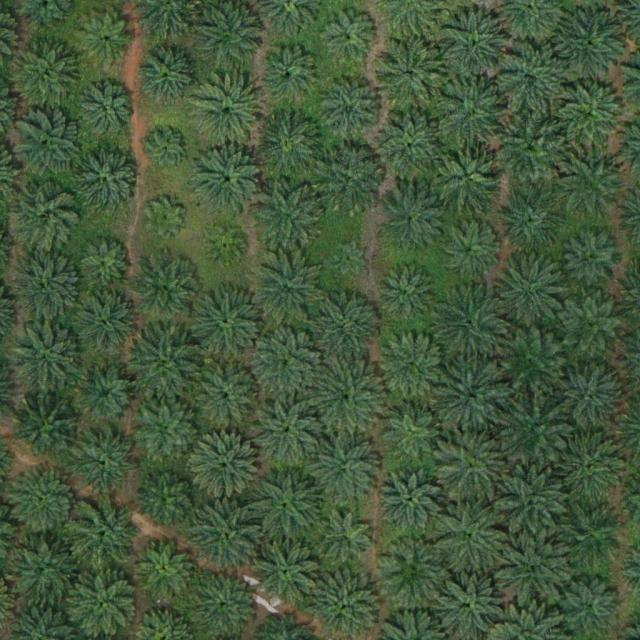Healthy: (555, 6, 626, 77), (436, 285, 507, 356), (436, 361, 507, 432), (377, 188, 448, 259), (250, 251, 321, 322), (12, 324, 83, 395), (14, 393, 85, 464), (9, 466, 80, 537), (70, 500, 141, 571), (499, 394, 570, 465), (11, 39, 81, 110), (135, 39, 205, 110), (192, 78, 263, 148), (256, 41, 326, 112), (441, 10, 511, 81), (558, 151, 628, 222), (554, 363, 624, 434), (495, 325, 565, 396), (439, 81, 509, 152), (376, 113, 447, 183), (315, 147, 385, 218), (313, 362, 383, 433), (254, 111, 324, 182), (194, 147, 264, 218), (131, 331, 201, 402), (71, 291, 141, 362), (9, 182, 80, 252), (12, 252, 82, 323), (69, 569, 139, 640), (192, 432, 262, 503), (252, 469, 322, 540), (252, 535, 323, 605), (309, 436, 379, 507), (496, 469, 567, 539), (497, 535, 568, 605), (559, 431, 629, 502), (557, 502, 627, 573), (373, 39, 443, 109), (496, 45, 566, 115), (557, 82, 627, 152), (497, 114, 567, 184), (495, 184, 565, 254), (496, 254, 566, 324), (433, 143, 503, 213), (378, 333, 448, 403), (312, 292, 382, 362), (256, 182, 326, 252), (253, 328, 323, 398), (192, 289, 262, 359), (192, 363, 262, 433), (132, 255, 202, 325), (74, 147, 144, 217), (12, 110, 82, 180), (7, 537, 77, 607), (191, 503, 261, 573), (250, 398, 320, 468), (379, 538, 449, 608), (437, 432, 507, 502), (438, 502, 508, 572), (437, 568, 507, 638), (320, 79, 383, 142), (75, 364, 138, 427), (137, 539, 200, 602), (562, 230, 624, 293), (562, 294, 624, 357), (439, 219, 502, 281), (375, 262, 438, 324), (77, 430, 140, 492), (138, 399, 200, 462), (139, 468, 201, 531), (316, 510, 378, 573), (381, 399, 443, 462), (379, 468, 441, 531), (560, 576, 622, 639), (80, 85, 135, 140), (324, 11, 379, 66), (78, 235, 133, 290), (80, 13, 134, 68)
Small: (149, 130, 189, 170), (330, 239, 369, 279), (207, 227, 246, 266), (146, 200, 185, 239)
